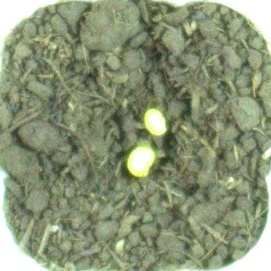pepper seed: (48, 56, 204, 234), (59, 38, 227, 176)
